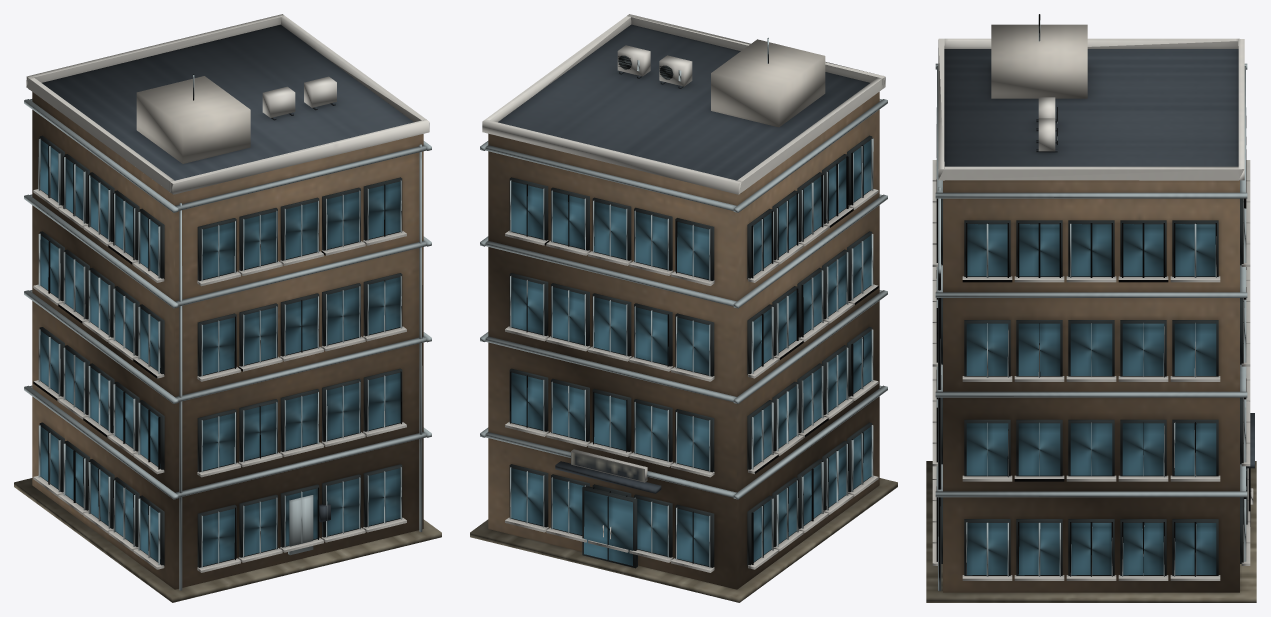
Rendered from office_001.obj.
The picture shows the model from 3 angles, left to right: view 1: azimuth 30°, elevation 25°; view 2: azimuth 150°, elevation 25°; view 3: azimuth 270°, elevation 25°; orthographic projection. The views are drawn at different scales.
Visible parts, largest first — view 1: office_001; view 2: office_001; view 3: office_001.
Part boxes in pixels (x1=…): office_001: x1=14, y1=14, x2=441, y2=602; office_001: x1=470, y1=14, x2=897, y2=602; office_001: x1=926, y1=14, x2=1256, y2=602.
Size of the model in its own units: 8.74 by 14.57 by 8.9.
1 material, 1 textured.
